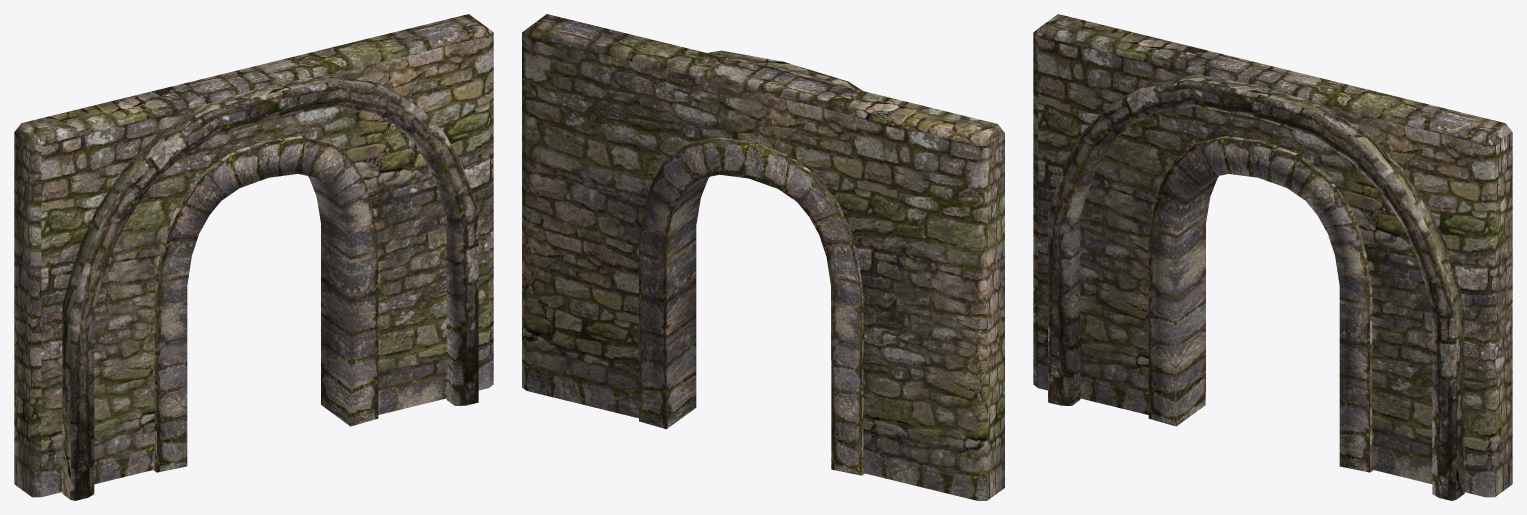
The model's file is Tunnel_Door.FBX.
The picture shows the model from 3 angles, left to right: view 1: azimuth 30°, elevation 25°; view 2: azimuth 150°, elevation 25°; view 3: azimuth 330°, elevation 25°; orthographic projection.
Visible parts, largest first — view 1: Tunnel_Door; view 2: Tunnel_Door; view 3: Tunnel_Door.
Part boxes in pixels (bbox=[...]): Tunnel_Door: bbox=[14, 14, 493, 500]; Tunnel_Door: bbox=[522, 14, 1004, 500]; Tunnel_Door: bbox=[1033, 14, 1512, 500].
Bounding box in the file's own units: 411 × 307 × 57.94.
